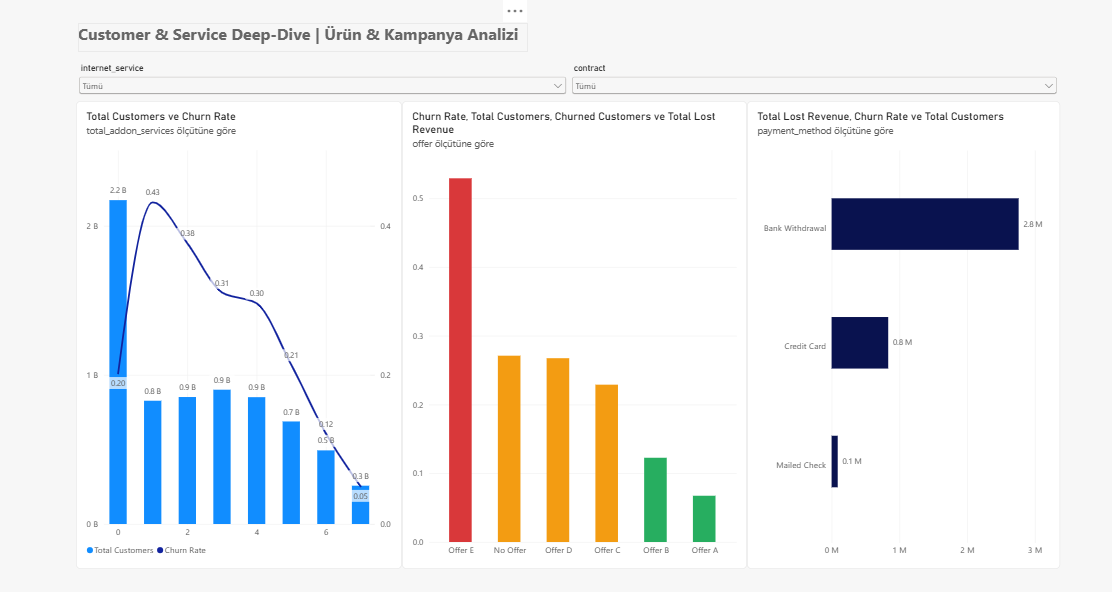

This screenshot's page, from the dashboard's own definition file:
{"tool":"powerbi","page":{"name":"Customer & Service Deep-Dive","canvas":[1920,1080],"ordinal":1},"visuals":[{"type":"textbox","box":[141.7,45,750,48.3],"z":0},{"type":"slicer","fields":{"Values":["public vw_powerbi_telecom_model.internet_service"]},"box":[138.3,111.7,821.7,63.3],"z":1},{"type":"slicer","fields":{"Values":["public vw_powerbi_telecom_model.contract"]},"box":[960,111.7,818.3,63.3],"z":2},{"type":"lineStackedColumnComboChart","fields":{"Category":["public vw_powerbi_telecom_model.total_addon_services"],"Y":["_Measures.Total Customers"],"Y2":["_Measures.Churn Rate"]},"box":[138.3,175,543.3,780],"z":3},{"type":"columnChart","fields":{"Category":["public vw_powerbi_telecom_model.offer"],"Y":["_Measures.Churn Rate"]},"box":[681.7,175,575,780],"z":4},{"type":"clusteredBarChart","fields":{"Category":["public vw_powerbi_telecom_model.payment_method"],"Y":["_Measures.Total Lost Revenue"]},"box":[1256.7,175,521.7,780],"z":5}]}

Visuals, with their boxes on the page's 1920x1080 design canvas (x1, y1, x2, y2). These are canvas units, not pixel positions in the 1112x592 screenshot, which may show the page scaled, cropped or inside an application window:
textbox: box=[142, 45, 892, 93]
slicer - public vw_powerbi_telecom_model.internet_service: box=[138, 112, 960, 175]
slicer - public vw_powerbi_telecom_model.contract: box=[960, 112, 1778, 175]
lineStackedColumnComboChart - public vw_powerbi_telecom_model.total_addon_services x _Measures.Total Customers: box=[138, 175, 682, 955]
columnChart - public vw_powerbi_telecom_model.offer x _Measures.Churn Rate: box=[682, 175, 1257, 955]
clusteredBarChart - public vw_powerbi_telecom_model.payment_method x _Measures.Total Lost Revenue: box=[1257, 175, 1778, 955]
